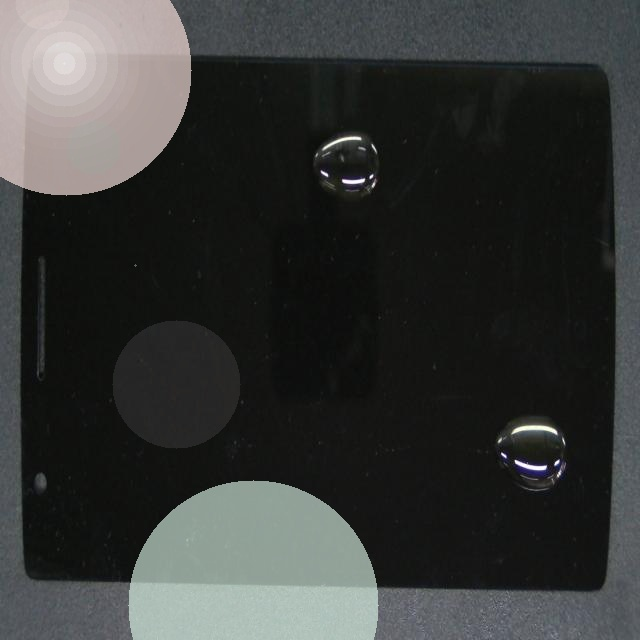oil: (307, 234, 640, 640), (209, 72, 553, 200)
